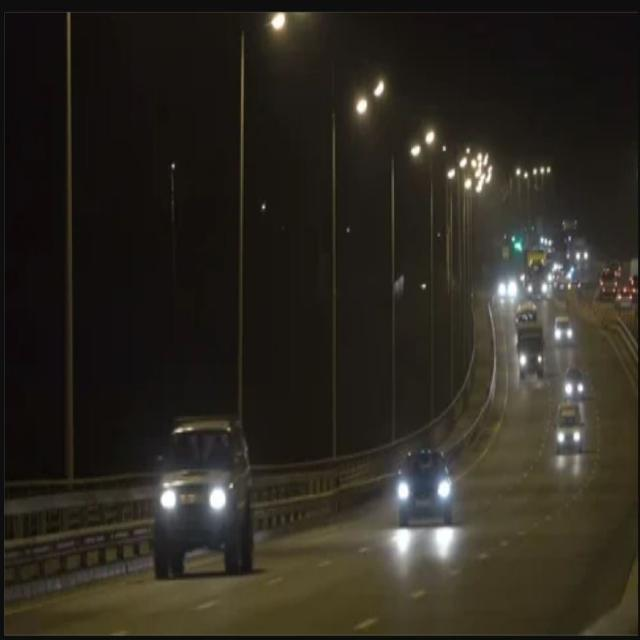headlights: (152, 476, 244, 523), (391, 471, 457, 513), (548, 429, 587, 453), (514, 349, 554, 371), (556, 380, 593, 397)
